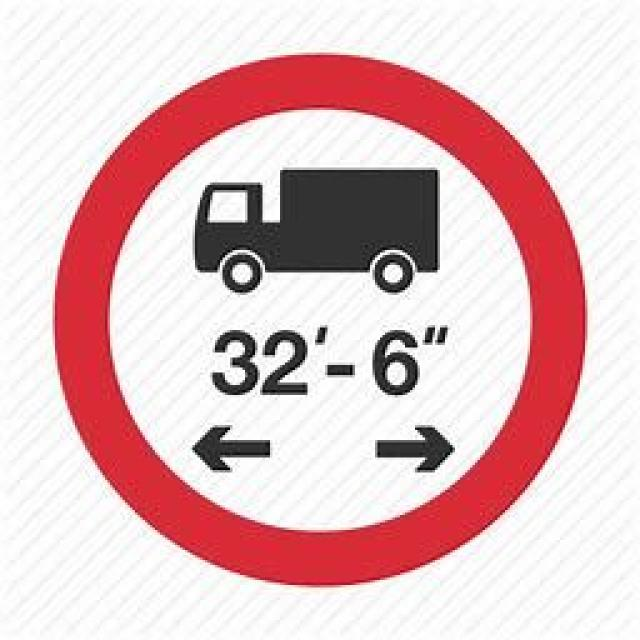LENGTH_LIMIT: (55, 50, 585, 580)
